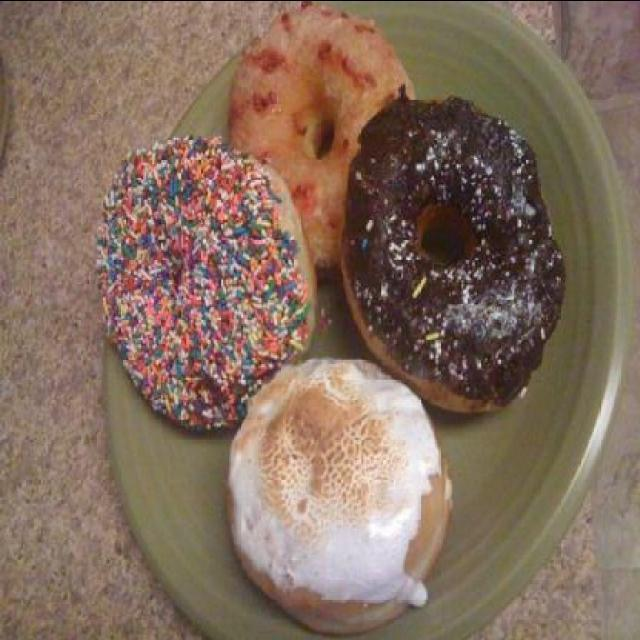Donuts: (95, 11, 599, 634)
